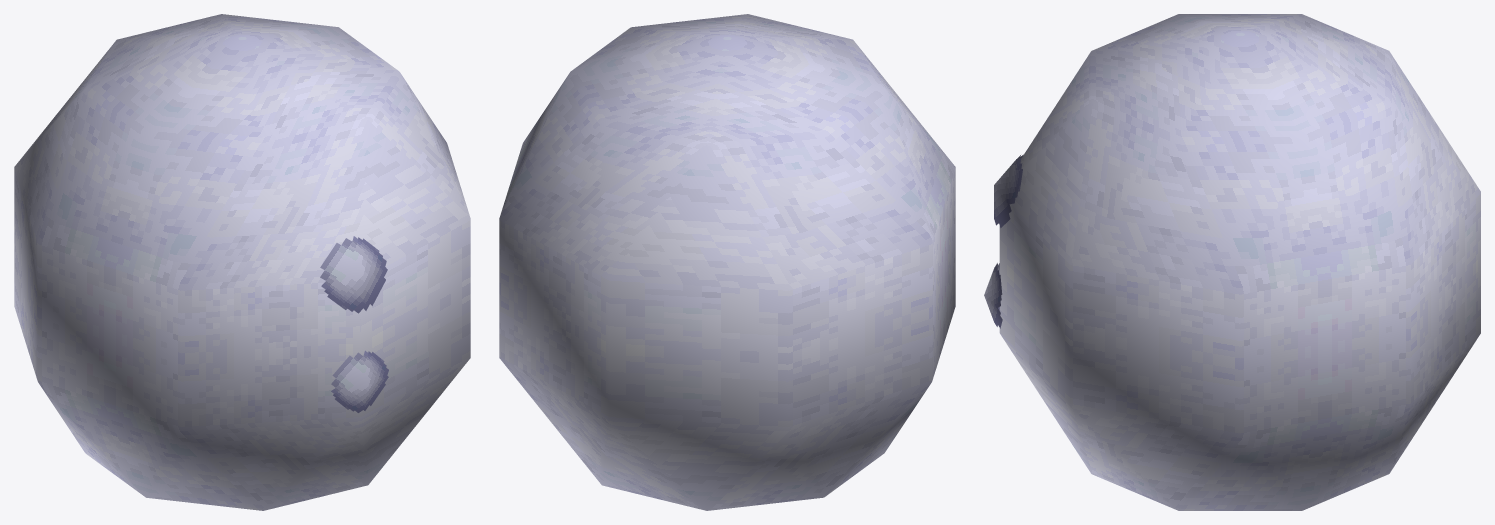
File: big_snowman_body.glb
The picture shows the model from 3 angles, left to right: view 1: azimuth 30°, elevation 25°; view 2: azimuth 150°, elevation 25°; view 3: azimuth 270°, elevation 25°; orthographic projection.
Parts seen in each view (by area): view 1: big_snowman_body; view 2: big_snowman_body; view 3: big_snowman_body.
Boxes of the visible parts, <box> form: big_snowman_body: <box>14,14,470,510</box>; big_snowman_body: <box>499,14,955,510</box>; big_snowman_body: <box>984,14,1480,510</box>.
Bounding box in the file's own units: 32.28 × 33.94 × 33.33.
Materials: 1 (1 with a texture image).
